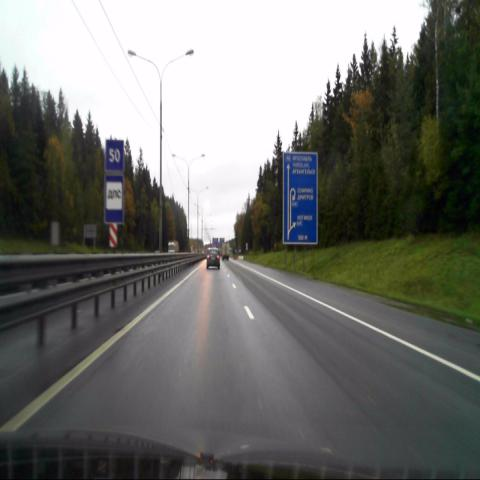6_2: (106, 140, 124, 173)
7_12: (105, 175, 123, 223)
